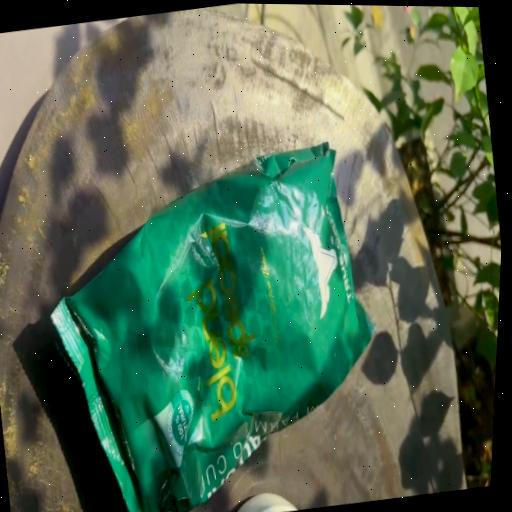cafe_xay: (51, 142, 373, 512)
